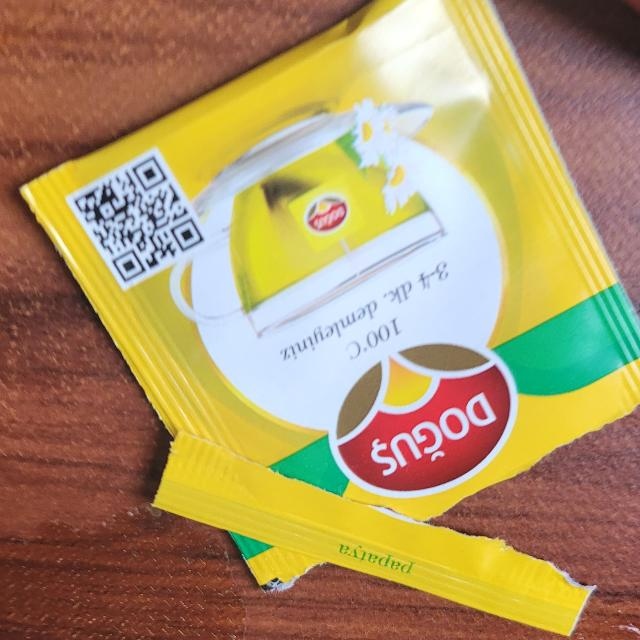Kagit: (7, 7, 614, 562)
